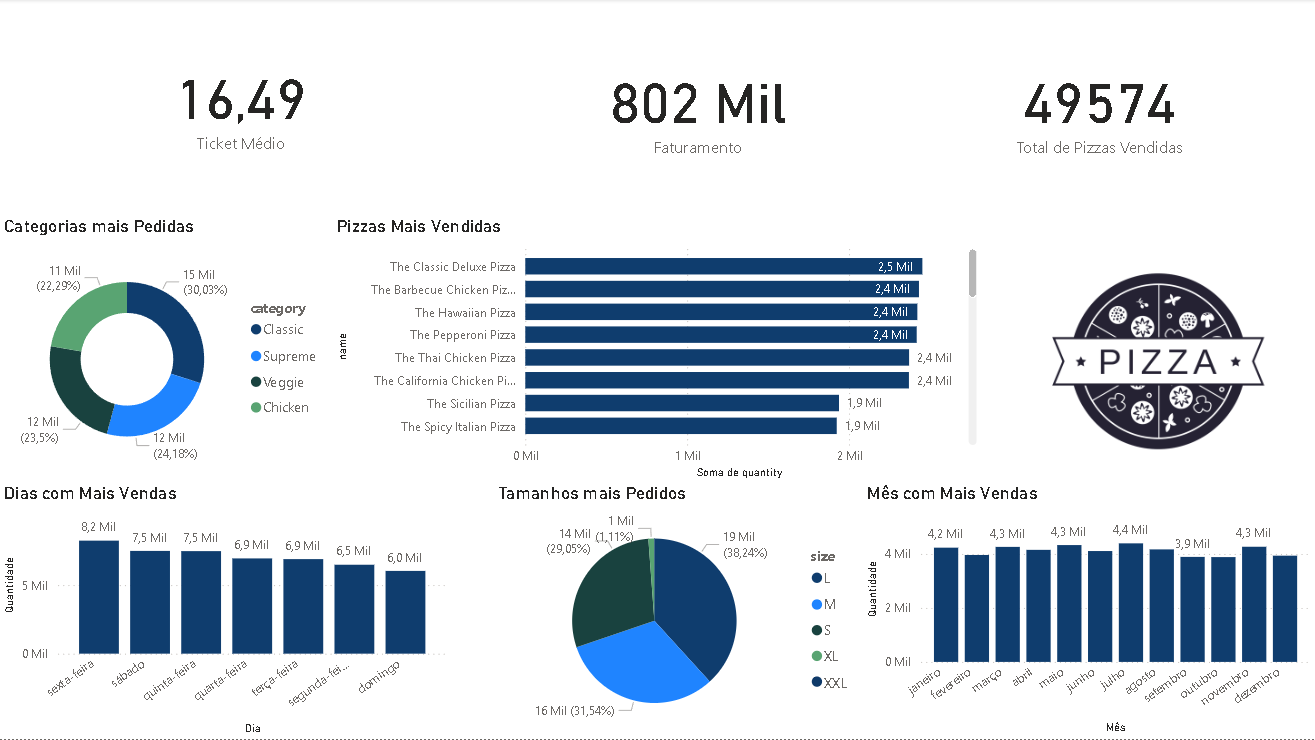

The dashboard page shown, as its layout file describes it:
{"tool":"powerbi","page":{"name":"Página 1","canvas":[1280,720],"ordinal":0},"visuals":[{"type":"card","fields":{"Values":["Sum(dados_combinados.quantity)"]},"box":[860.8,0,419.2,211.1],"z":0},{"type":"barChart","title":"Pizzas Mais Vendidas","fields":{"Category":["dados_combinados.name"],"Y":["Sum(dados_combinados.quantity)"]},"box":[323.9,211.1,632.2,259.7],"z":1000},{"type":"columnChart","title":"Dias com Mais Vendas","fields":{"Y":["Sum(dados_combinados.quantity)"],"Category":["dados_combinados.Nome do Dia"]},"box":[0,470.8,440.6,249],"z":2000},{"type":"columnChart","title":"Mês com Mais Vendas","fields":{"Category":["dados_combinados.date.Variation.Hierarquia de datas.Mês"],"Y":["Sum(dados_combinados.quantity)"]},"box":[839.4,470.8,440.6,248],"z":3000},{"type":"card","fields":{"Values":["Sum(dados_combinados.price)"]},"box":[469.8,0,420.2,211.1],"z":4000},{"type":"image","box":[975.6,234.4,304.4,236.4],"z":5000},{"type":"pieChart","title":"Tamanhos mais Pedidos","fields":{"Category":["dados_combinados.size"],"Y":["Sum(dados_combinados.quantity)"]},"box":[480.5,470.8,358.9,249],"z":6000},{"type":"card","fields":{"Values":["Avg(dados_combinados.price)"]},"box":[0,0,469.8,202.3],"z":7000},{"type":"donutChart","title":"Categorias mais Pedidas","fields":{"Category":["dados_combinados.category"],"Y":["Sum(dados_combinados.quantity)"]},"box":[0,211.1,323.9,259.7],"z":8000}]}

Visuals, with their boxes in screenshot pixels (x1, y1, x2, y2), scaled from the page's 1280x720 canvas onto the 1315x740 screenshot:
card - Sum(dados_combinados.quantity): region(884, 0, 1314, 217)
"Pizzas Mais Vendidas" barChart: region(333, 217, 982, 484)
"Dias com Mais Vendas" columnChart: region(0, 484, 453, 739)
"Mês com Mais Vendas" columnChart: region(862, 484, 1314, 739)
card - Sum(dados_combinados.price): region(483, 0, 914, 217)
image: region(1002, 241, 1314, 484)
"Tamanhos mais Pedidos" pieChart: region(494, 484, 862, 739)
card - Avg(dados_combinados.price): region(0, 0, 483, 208)
"Categorias mais Pedidas" donutChart: region(0, 217, 333, 484)
